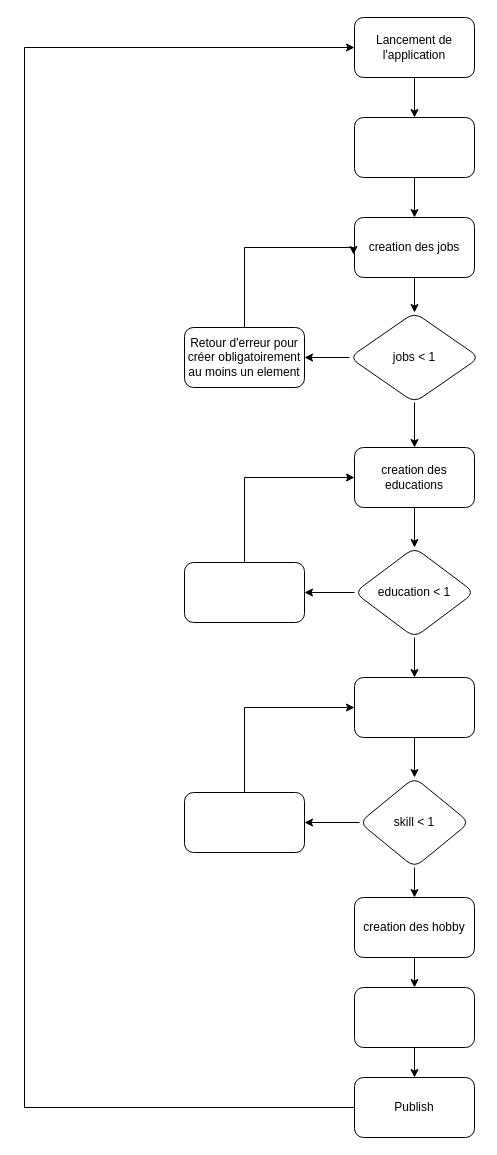
The diagram is 497 pixels wide and 1155 high, and some of its shapes have lost their labels. The box of each missing label's shape, as (x1, y1, x2, y2) in pixels:
creation du resume avec les infos: (354, 116, 474, 178)
Creations des skills: (354, 676, 474, 738)
Preview cv: (354, 986, 474, 1048)
Retour d'erreu, création obligatoire d'au moins un element: (184, 792, 304, 852)
Retour d'erreur, creation obligatoire d'au moins un element: (184, 562, 304, 622)
